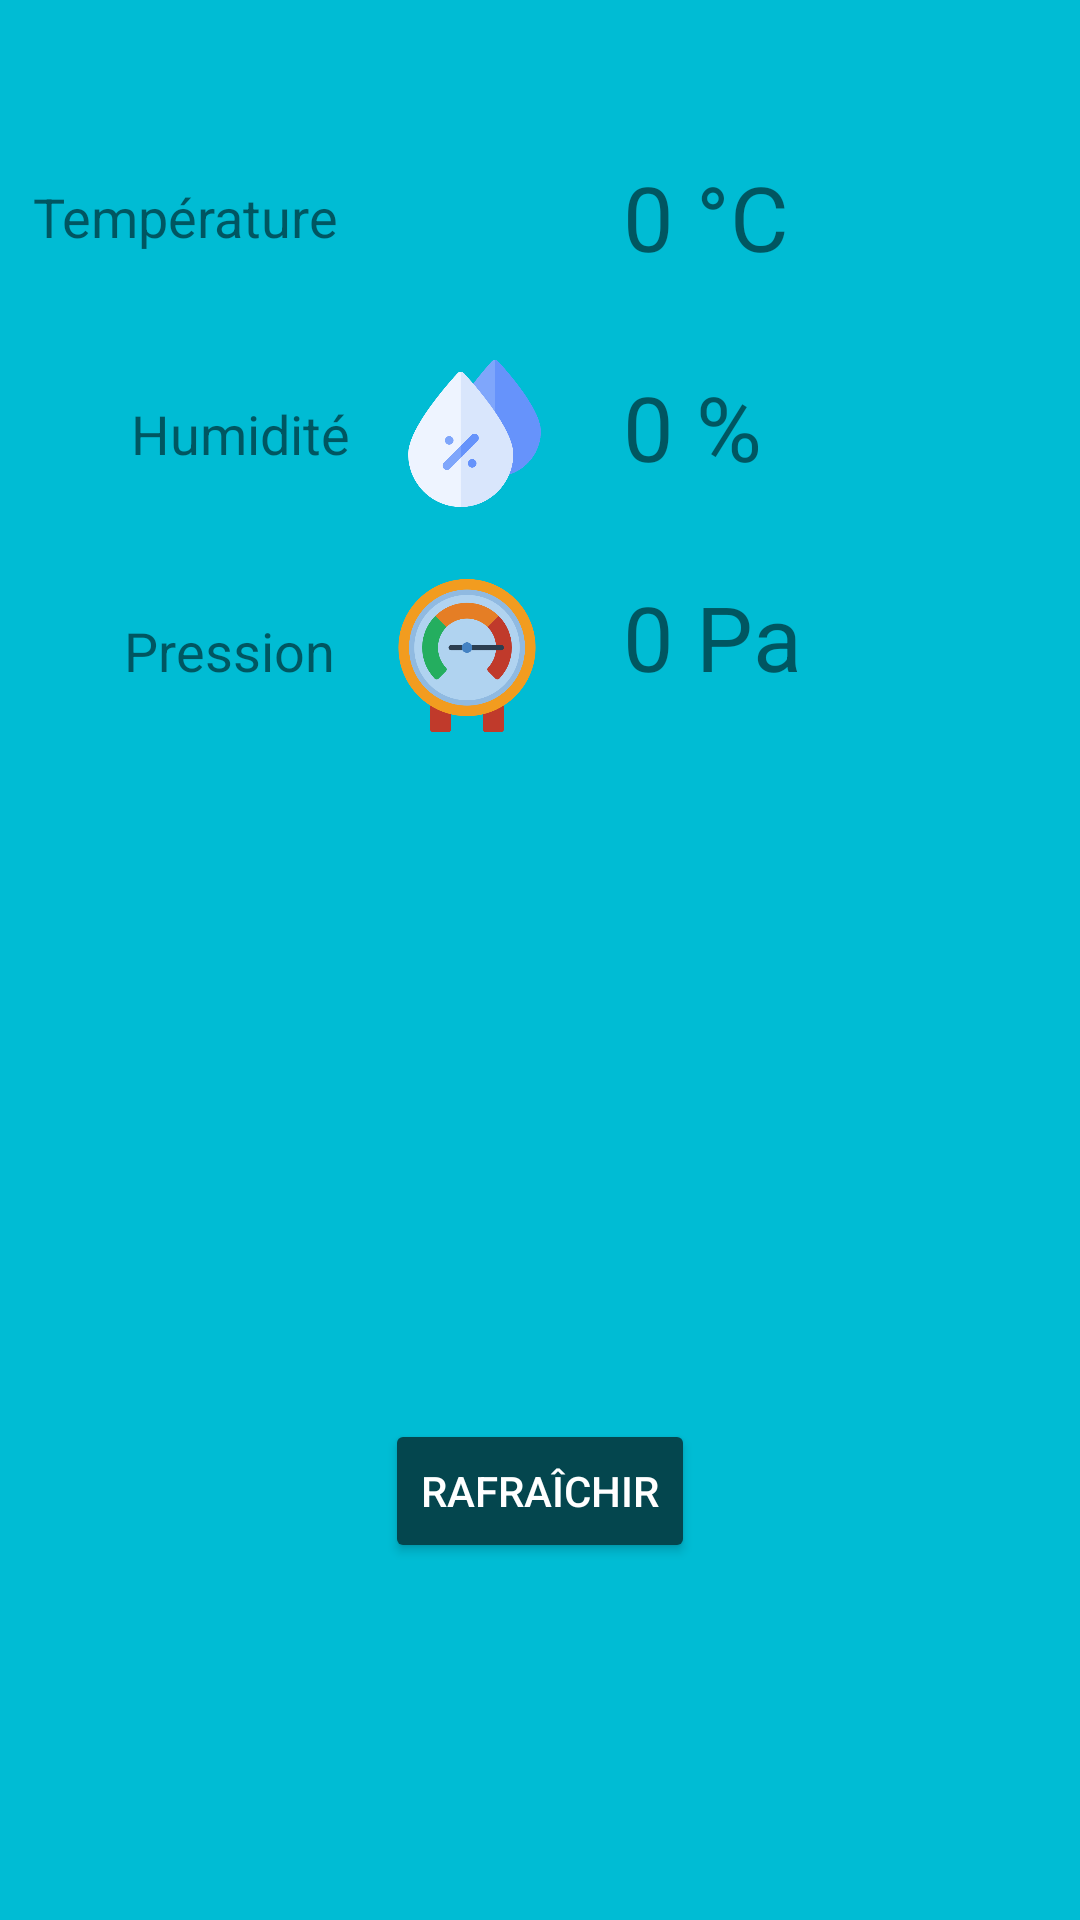

Named icons in this screenshot (1080w x 1920h) and their bounding boxes, (x1, y1, x2, y2):
drop: (408, 360, 541, 507)
gauge: (398, 579, 536, 732)
